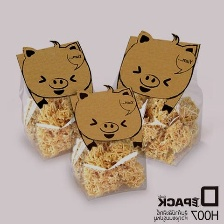snack: (106, 24, 209, 171), (11, 33, 103, 164), (65, 78, 152, 205)
